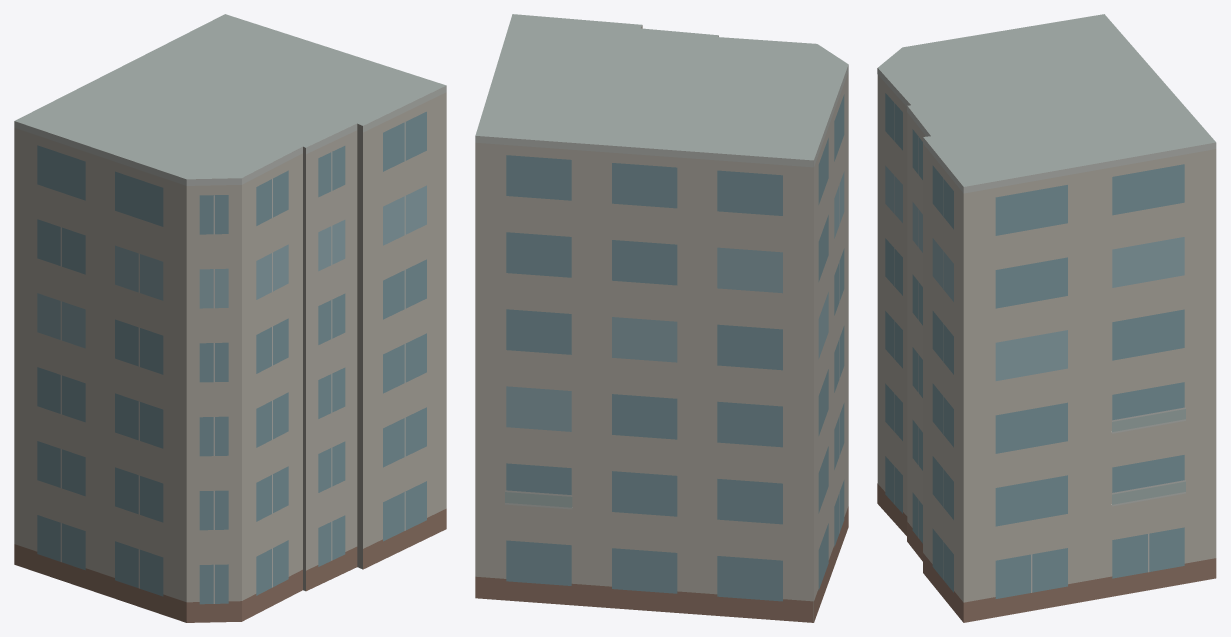
The model's file is survey-upis-32831550.glb.
3 renders of one model, left to right at view 1: azimuth 30°, elevation 25°; view 2: azimuth 150°, elevation 25°; view 3: azimuth 270°, elevation 25°, orthographic. The views are drawn at different scales.
Parts seen in each view (by area): view 1: survey-upis-32831550.tmp; view 2: survey-upis-32831550.tmp; view 3: survey-upis-32831550.tmp.
Part boxes in pixels (x1=…): survey-upis-32831550.tmp: x1=14, y1=14, x2=446, y2=622; survey-upis-32831550.tmp: x1=475, y1=14, x2=848, y2=622; survey-upis-32831550.tmp: x1=877, y1=14, x2=1216, y2=622.
Size of the model in its own units: 13.82 by 16.22 by 11.43.
